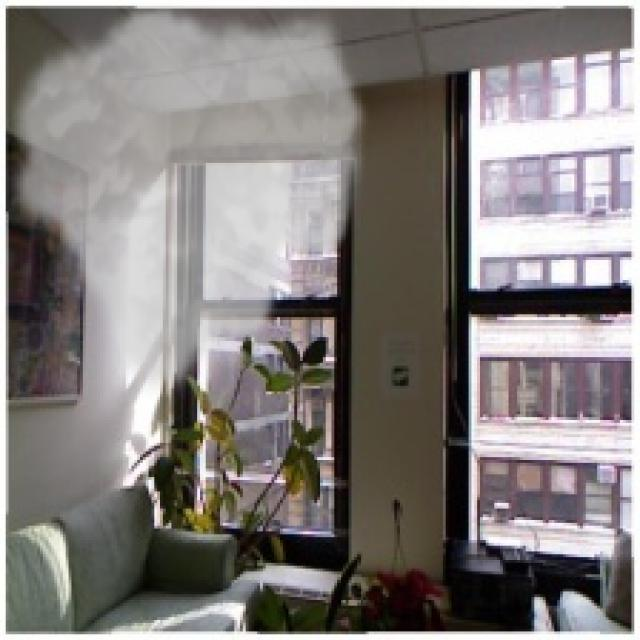smoke: (0, 0, 372, 398)
